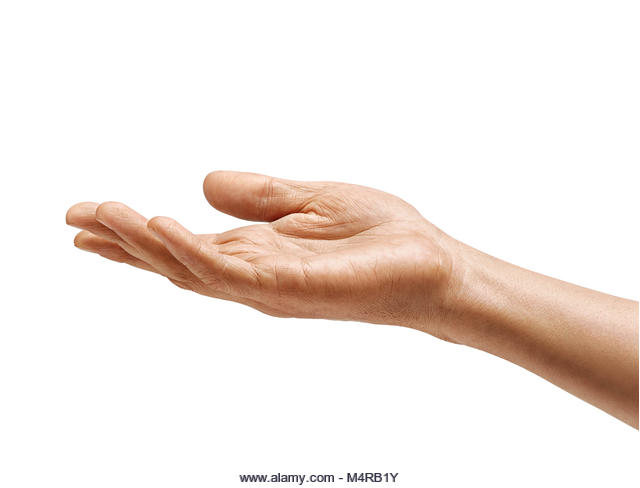non-diseased: (87, 181, 461, 319)
